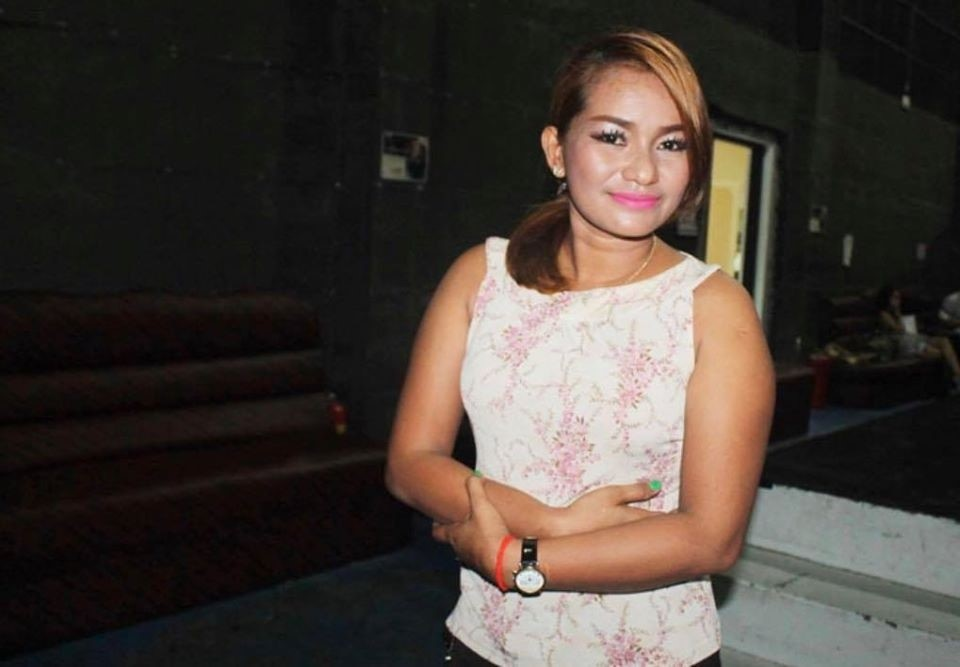face_no_mask: (538, 31, 711, 239)
